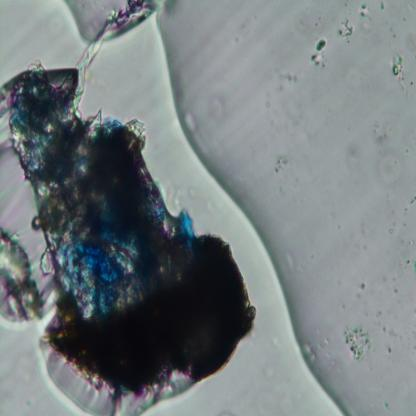Air bubble: (234, 200, 349, 412), (153, 10, 272, 200), (62, 1, 190, 64)
Background material: (47, 234, 254, 405), (0, 226, 45, 326), (369, 107, 395, 151), (336, 3, 362, 41), (378, 158, 406, 193), (360, 329, 382, 372), (388, 49, 405, 85), (275, 153, 294, 183), (277, 67, 297, 90), (314, 34, 328, 55), (356, 276, 367, 298), (405, 255, 416, 273), (386, 338, 394, 358), (379, 0, 385, 12)
Cellulose filter fibre: (70, 2, 151, 112)
Fragment: (0, 64, 205, 320)
